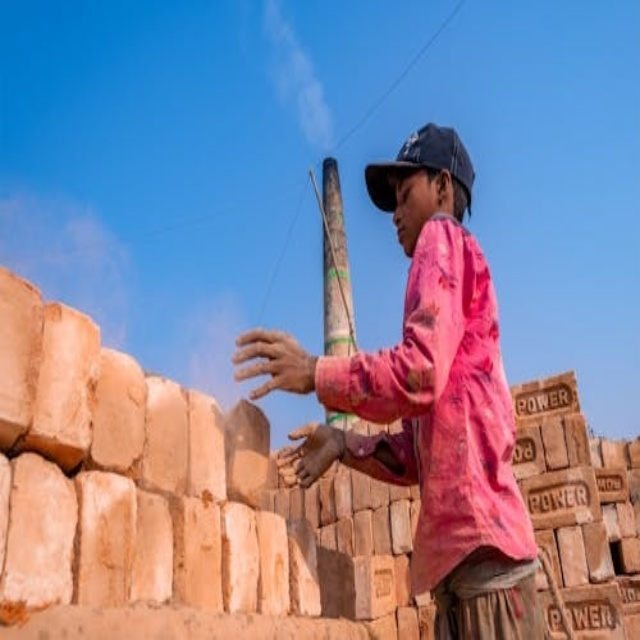Sin_gafas: (393, 175, 425, 210)
Sin_guantes: (232, 327, 317, 395), (276, 419, 348, 489)
Sin_mascara: (393, 211, 412, 242)
